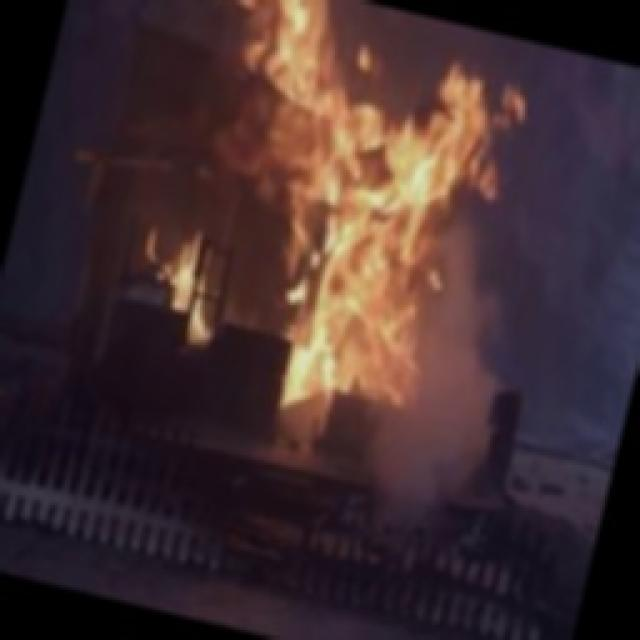fire: (91, 0, 554, 460)
